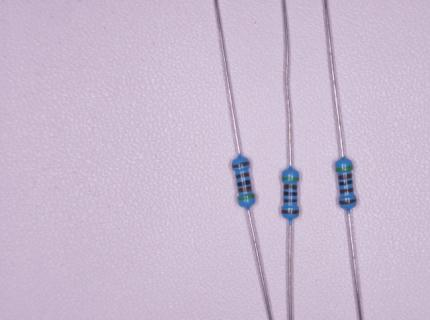Black band: (338, 180, 353, 187), (237, 180, 251, 187), (284, 191, 298, 196)
Brown band: (232, 161, 250, 169), (339, 199, 357, 205), (235, 172, 250, 179), (338, 173, 352, 180), (238, 186, 252, 193), (339, 188, 354, 194), (284, 184, 298, 190), (281, 210, 299, 214), (283, 199, 297, 203)
Green band: (237, 194, 256, 201), (336, 165, 353, 172), (282, 177, 299, 181)
